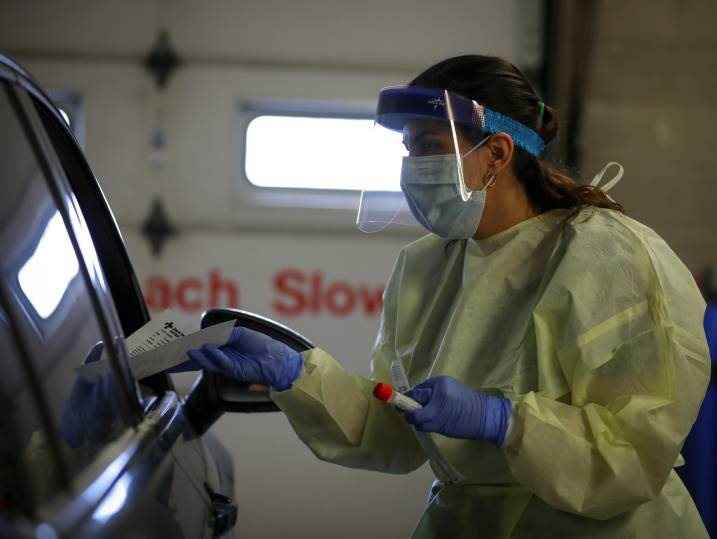Coverall: (381, 220, 695, 530)
Gloves: (401, 371, 512, 451), (192, 323, 304, 394)
with_mask: (401, 133, 482, 237)
